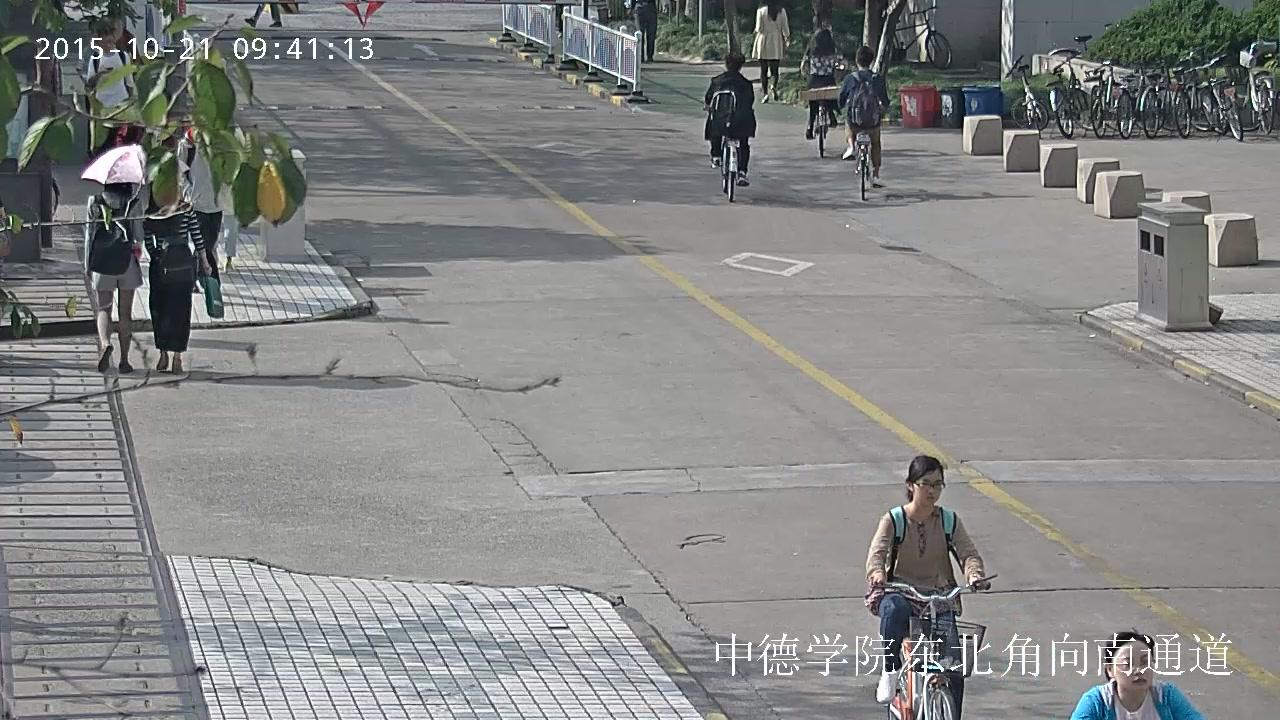face: (1114, 640, 1153, 693), (913, 469, 941, 504), (100, 35, 114, 51)
